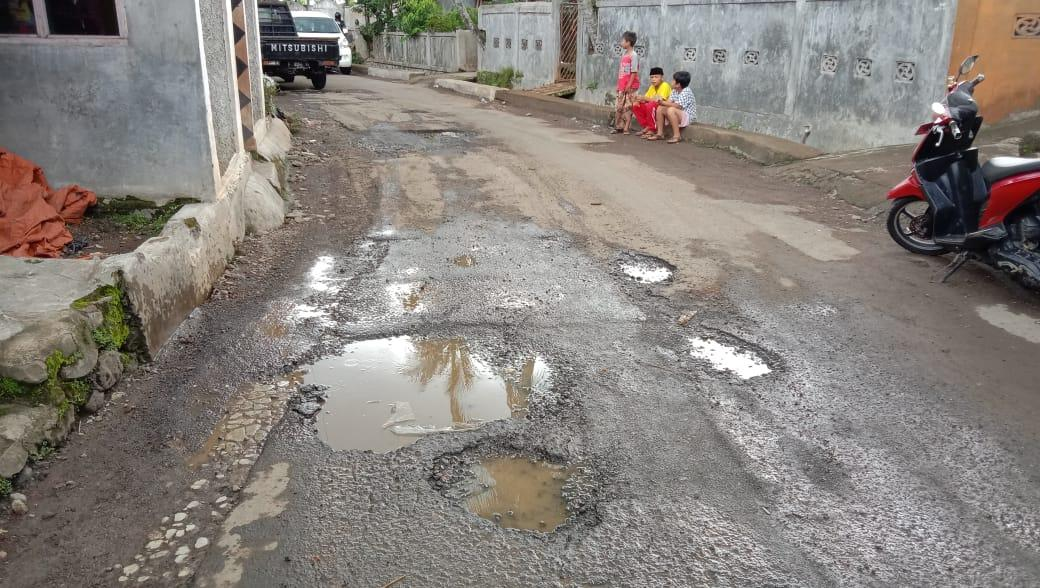Pothole: (257, 301, 625, 551), (561, 226, 788, 415), (324, 57, 494, 191)
